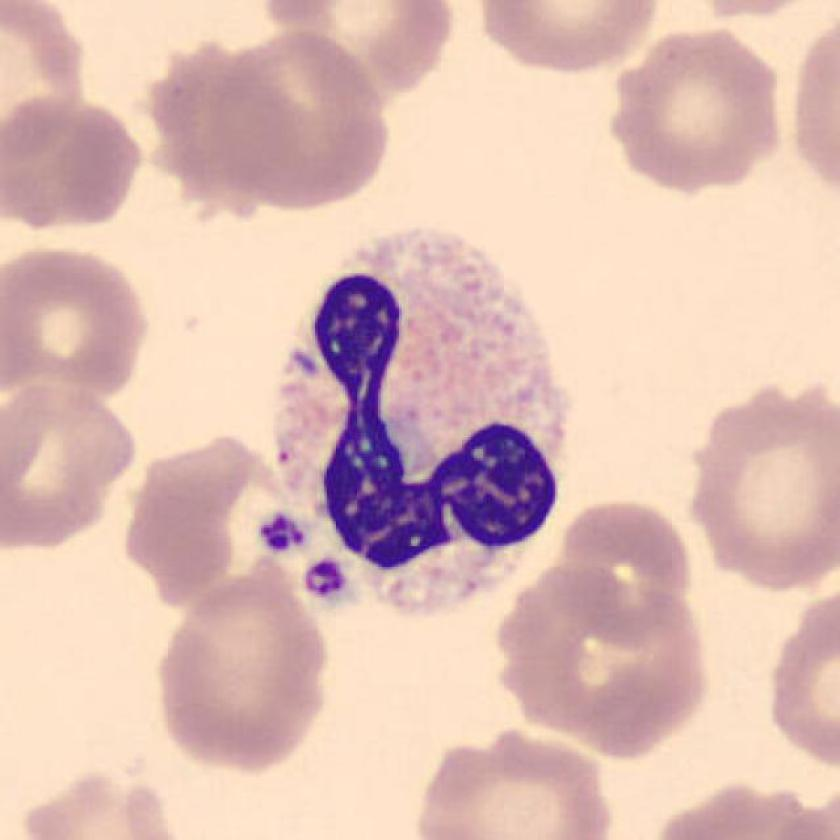neutrophil: (278, 232, 567, 614)
